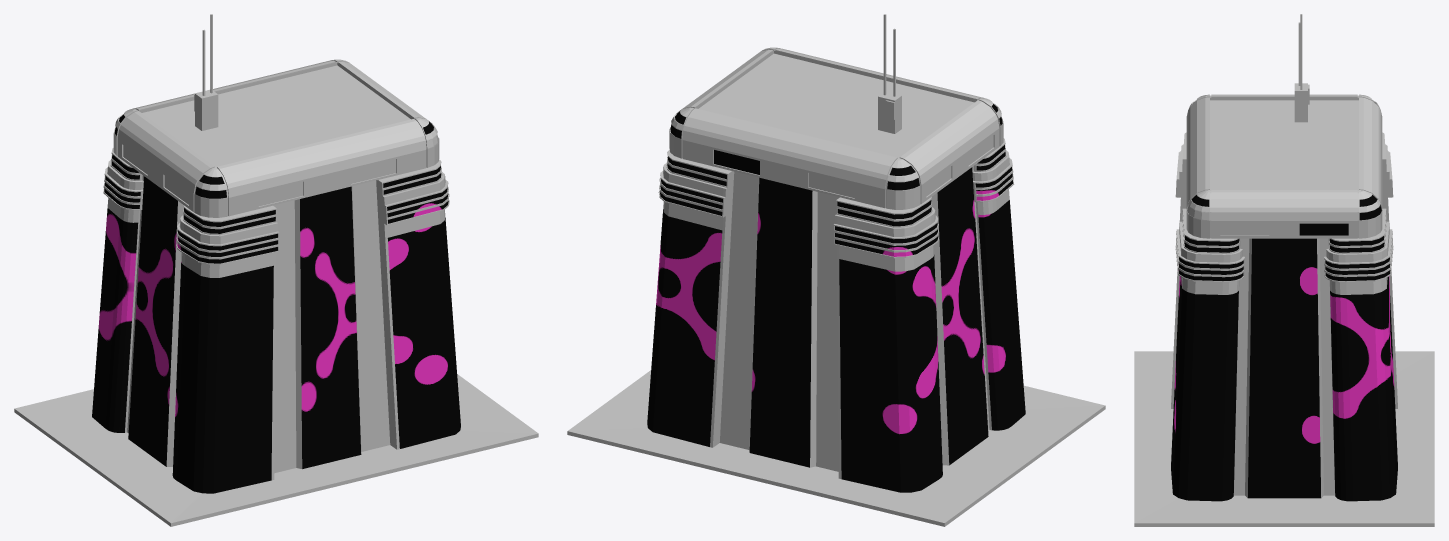
Rendered from FUT0210054.fbx.
The picture shows the model from 3 angles, left to right: view 1: azimuth 30°, elevation 25°; view 2: azimuth 150°, elevation 25°; view 3: azimuth 270°, elevation 25°; orthographic projection. The views are drawn at different scales.
Parts seen in each view (by area): view 1: smFUT0210054; view 2: smFUT0210054; view 3: smFUT0210054.
Boxes of the visible parts, x1,y1,x2,y2 form: smFUT0210054: (14, 14, 538, 526); smFUT0210054: (567, 14, 1105, 526); smFUT0210054: (1134, 14, 1434, 526).
Size of the model in its own units: 2591 by 2809 by 1912.
